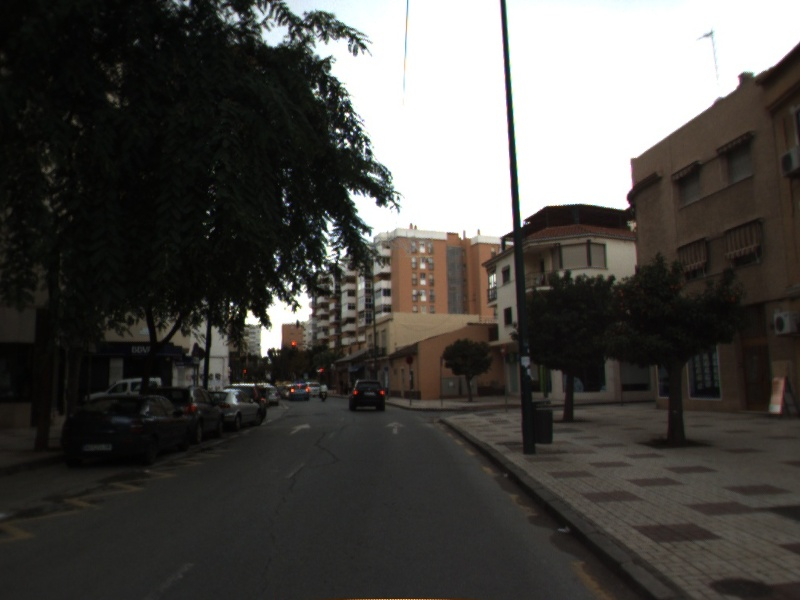STRAIGHT: (383, 419, 409, 435), (288, 421, 313, 436)
